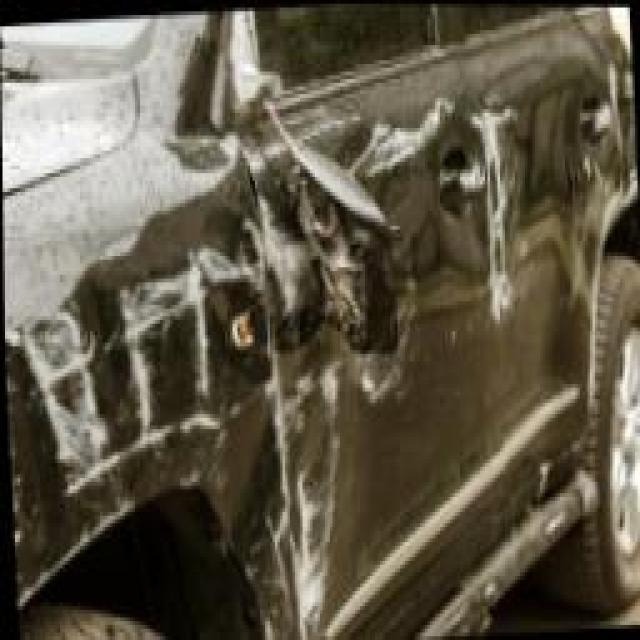Door: (260, 94, 513, 612)
Fender: (2, 196, 271, 537)
